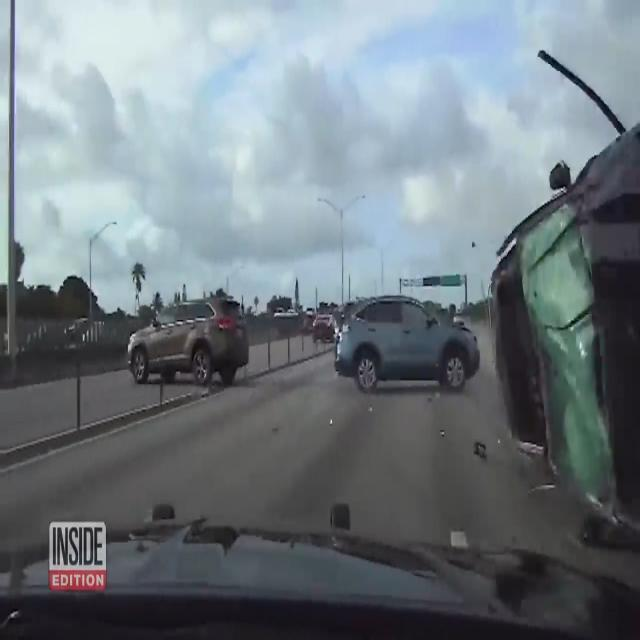accident: (489, 137, 640, 539)
